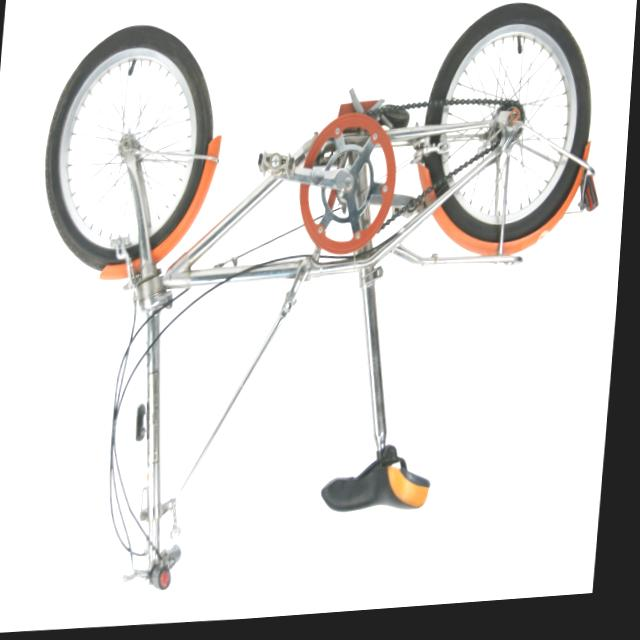folding-bike: (12, 0, 618, 618)
